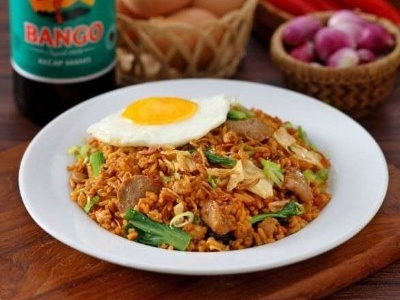nasigoreng: (85, 98, 320, 239)
